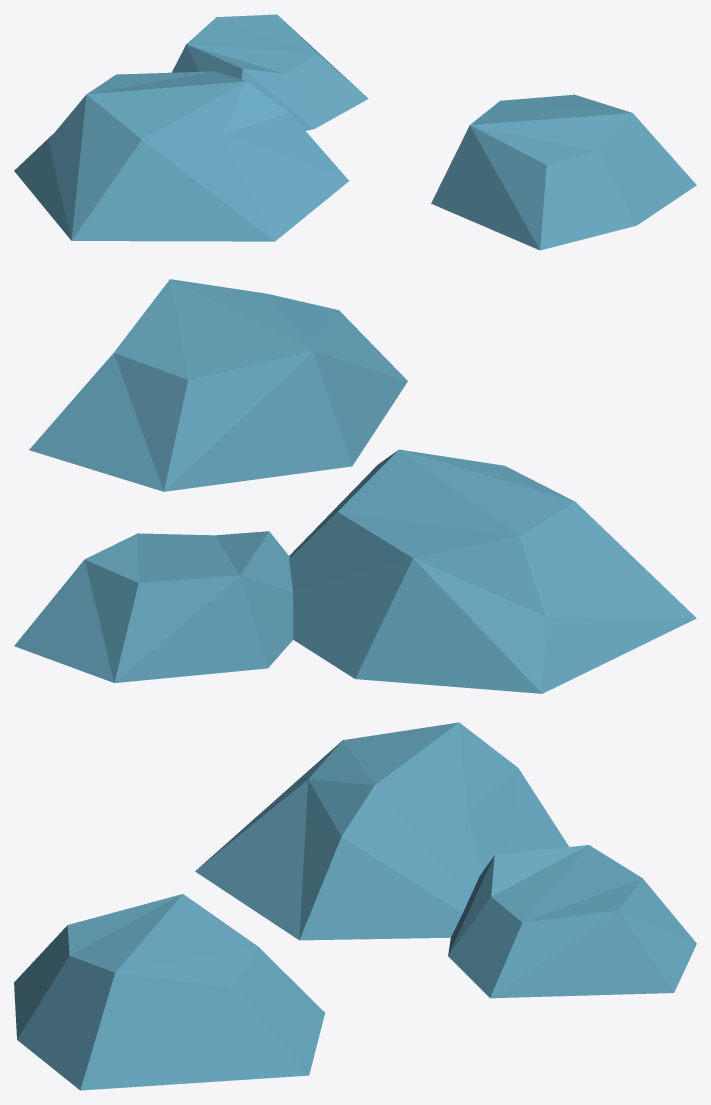
The model's file is SM_Env_Rocks_03.glb.
3 views of the same model, one above another, from view 1: azimuth 30°, elevation 25°; view 2: azimuth 150°, elevation 25°; view 3: azimuth 270°, elevation 25° (orthographic). The views are drawn at different scales.
Parts seen in each view (by area): view 1: SM_Env_Rocks_03; view 2: SM_Env_Rocks_03; view 3: SM_Env_Rocks_03.
Boxes of the visible parts, left/top/right/bottom form: SM_Env_Rocks_03: left=14, top=14, right=696, bottom=250; SM_Env_Rocks_03: left=14, top=279, right=696, bottom=693; SM_Env_Rocks_03: left=14, top=722, right=696, bottom=1090.
Size of the model in its own units: 0.01 by 0.00172 by 0.0094.
